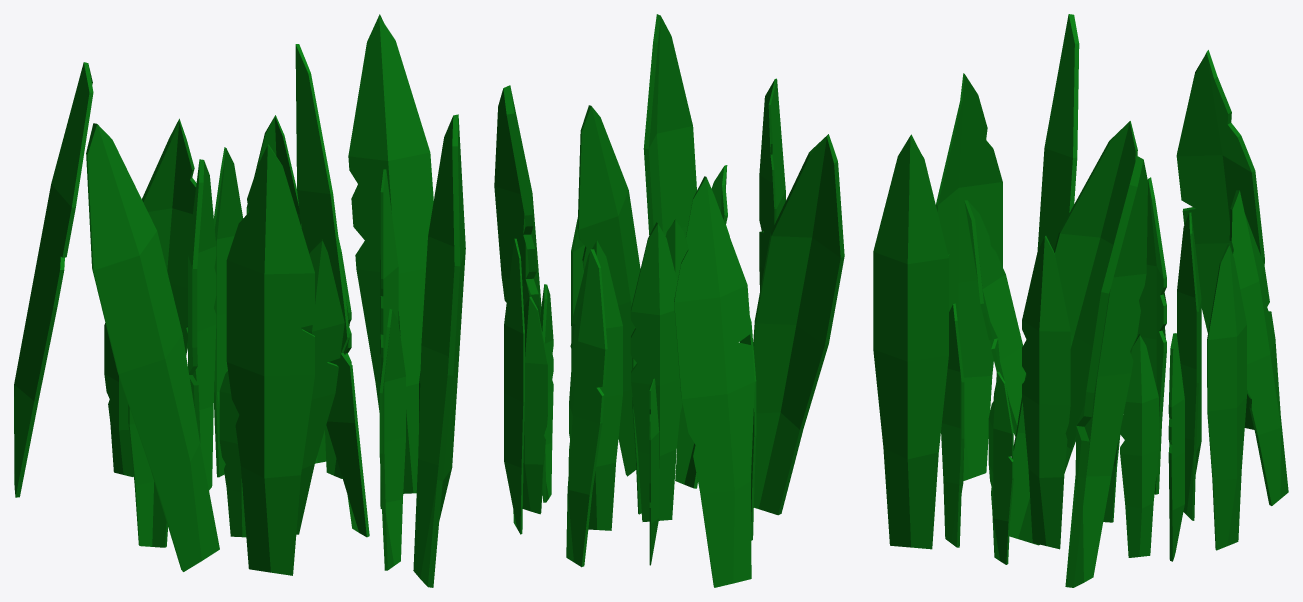
The model's file is Grass2.fbx.
3 views of the same model, side by side, from view 1: azimuth 30°, elevation 25°; view 2: azimuth 150°, elevation 25°; view 3: azimuth 270°, elevation 25° (orthographic). The views are drawn at different scales.
Visible parts, largest first — view 1: Plane.001; view 2: Plane.001; view 3: Plane.001.
Part boxes in pixels (left/top/right/bottom): Plane.001: left=14, top=14, right=465, bottom=587; Plane.001: left=494, top=14, right=844, bottom=587; Plane.001: left=873, top=14, right=1288, bottom=587.
Bounding box in the file's own units: 108 × 130 × 115.
